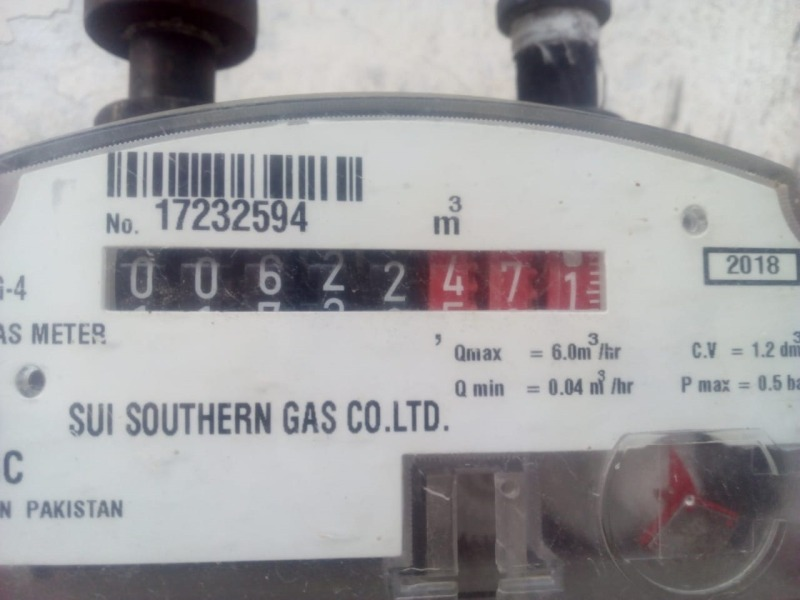ssgc: (98, 239, 615, 314)
